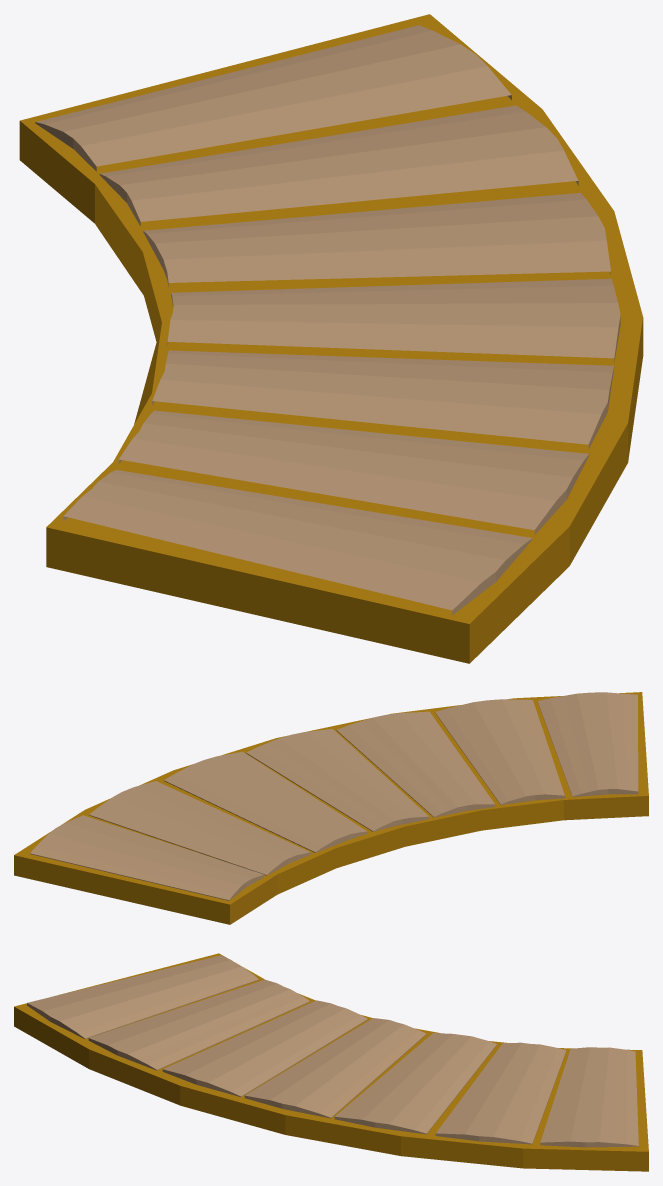
Rendered from innercircle.fbx.
The picture shows the model from 3 angles, top to bottom: view 1: azimuth 30°, elevation 25°; view 2: azimuth 150°, elevation 25°; view 3: azimuth 270°, elevation 25°; orthographic projection. The views are drawn at different scales.
Parts seen in each view (by area): view 1: Cylinder.041; view 2: Cylinder.041; view 3: Cylinder.041.
Part boxes in pixels (x1=…): Cylinder.041: x1=19, y1=14, x2=643, y2=663; Cylinder.041: x1=14, y1=692, x2=648, y2=924; Cylinder.041: x1=14, y1=953, x2=648, y2=1171.
Bounding box in the file's own units: 2143 × 126 × 2897.
